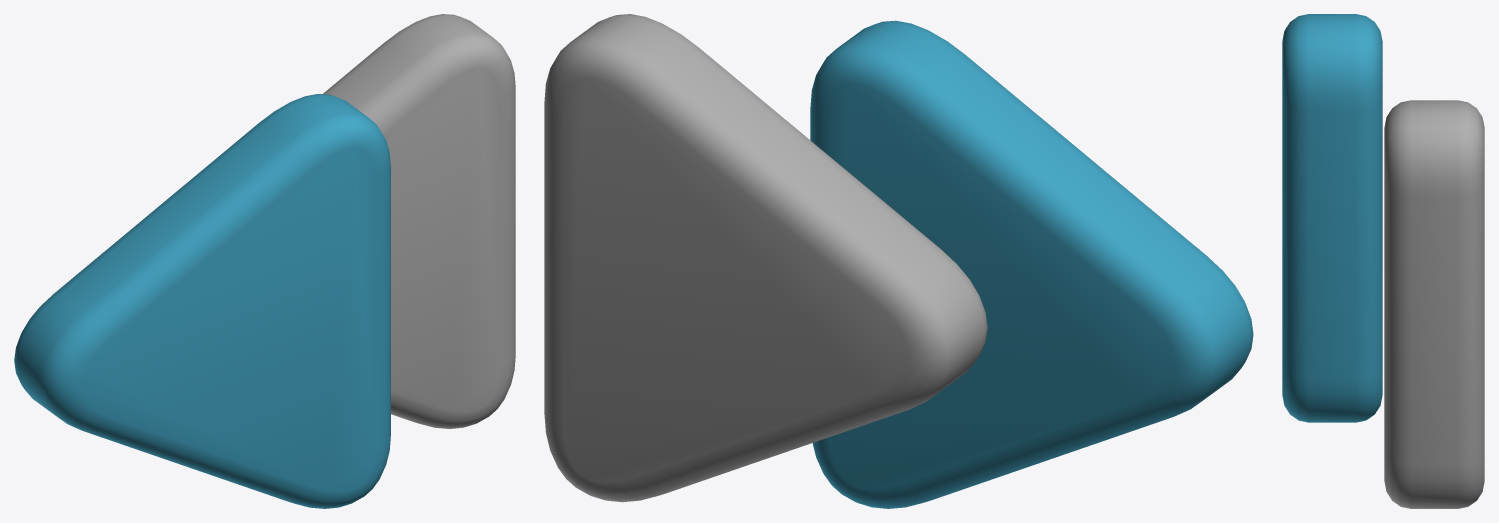
The model's file is rewind-animated-3d-icon-1709933656274.glb.
3 views of the same model, side by side, from view 1: azimuth 30°, elevation 25°; view 2: azimuth 150°, elevation 25°; view 3: azimuth 270°, elevation 25° (orthographic). The views are drawn at different scales.
Parts seen in each view (by area): view 1: Forward 1.001, Forward 2.001; view 2: Forward 2.001, Forward 1.001; view 3: Forward 1.001, Forward 2.001.
Boxes of the visible parts, x1=… form: Forward 1.001: x1=14, y1=94, x2=390, y2=508; Forward 2.001: x1=322, y1=14, x2=515, y2=428; Forward 2.001: x1=544, y1=14, x2=987, y2=502; Forward 1.001: x1=810, y1=20, x2=1253, y2=508; Forward 1.001: x1=1282, y1=14, x2=1382, y2=422; Forward 2.001: x1=1384, y1=100, x2=1484, y2=508.
Bounding box in the file's own units: 1.06 × 0.7564 × 0.3524.
